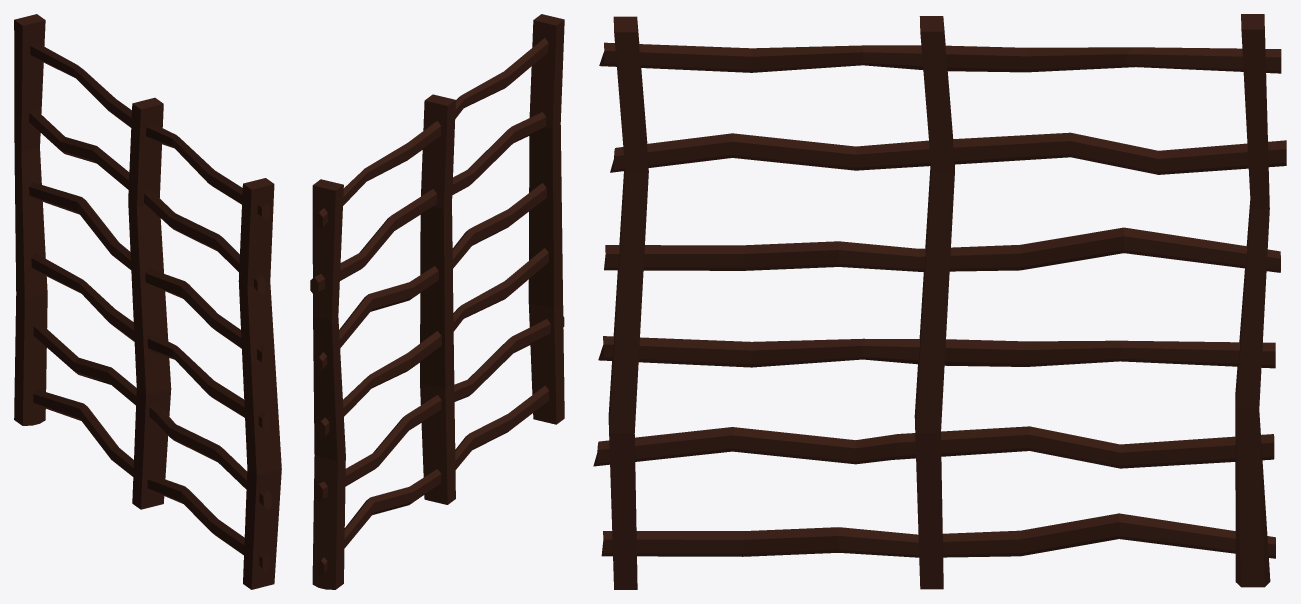
Rendered from jaula_puerta.fbx.
3 views of the same model, side by side, from view 1: azimuth 30°, elevation 25°; view 2: azimuth 150°, elevation 25°; view 3: azimuth 270°, elevation 25° (orthographic). The views are drawn at different scales.
Visible parts, largest first — view 1: long fence v:199 f:175.003; view 2: long fence v:199 f:175.003; view 3: long fence v:199 f:175.003.
Part boxes in pixels (<box>): long fence v:199 f:175.003: <box>14,14,281,589</box>; long fence v:199 f:175.003: <box>310,14,564,589</box>; long fence v:199 f:175.003: <box>593,14,1286,589</box>.
Size of the model in its own units: 44.68 by 525 by 592.
